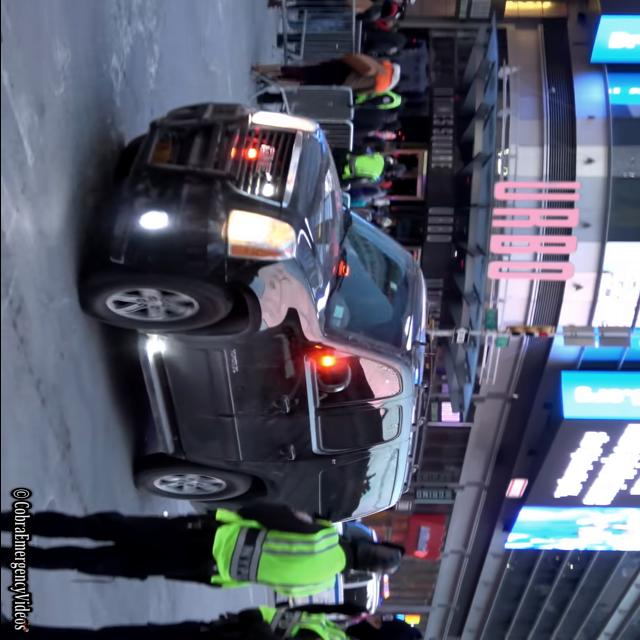emergency-vehicles: (78, 95, 440, 537)
